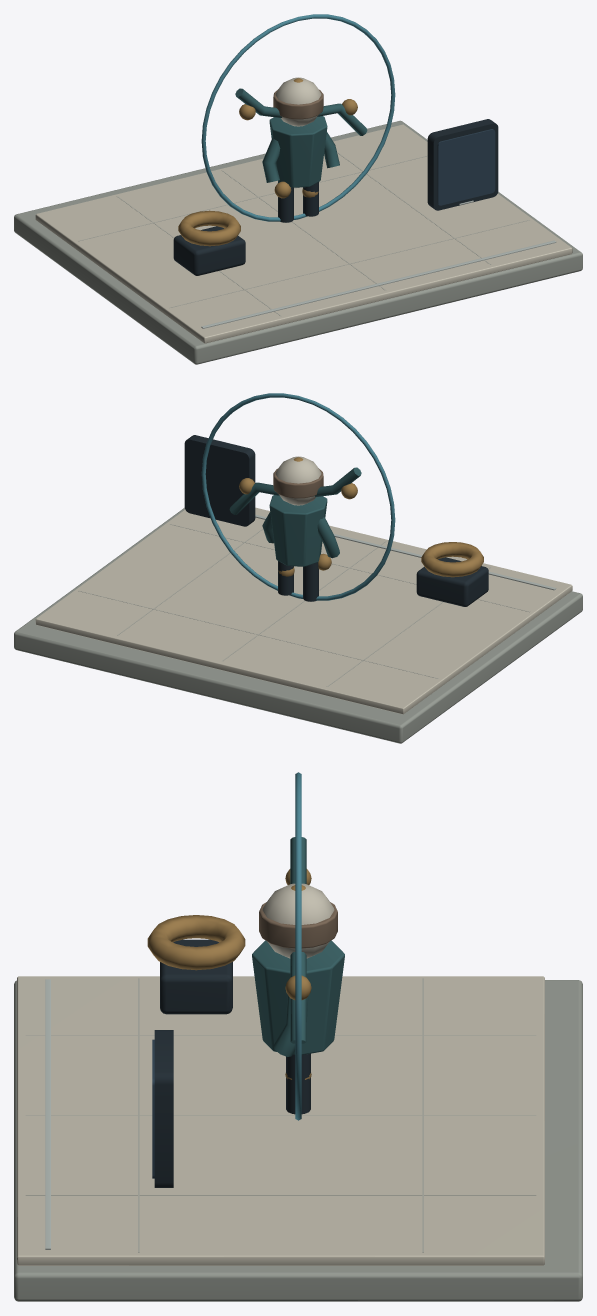
File: idea-9d91aa25.glb
The picture shows the model from 3 angles, top to bottom: view 1: azimuth 30°, elevation 25°; view 2: azimuth 150°, elevation 25°; view 3: azimuth 270°, elevation 25°; orthographic projection. The views are drawn at different scales.
Parts seen in each view (by area): view 1: Karmic Motion Intelligence; view 2: Karmic Motion Intelligence; view 3: Karmic Motion Intelligence.
Part boxes in pixels (<box>): Karmic Motion Intelligence: <box>14,14,582,364</box>; Karmic Motion Intelligence: <box>14,393,582,743</box>; Karmic Motion Intelligence: <box>14,772,582,1301</box>.
Bounding box in the file's own units: 4.8 × 2.77 × 3.9.
